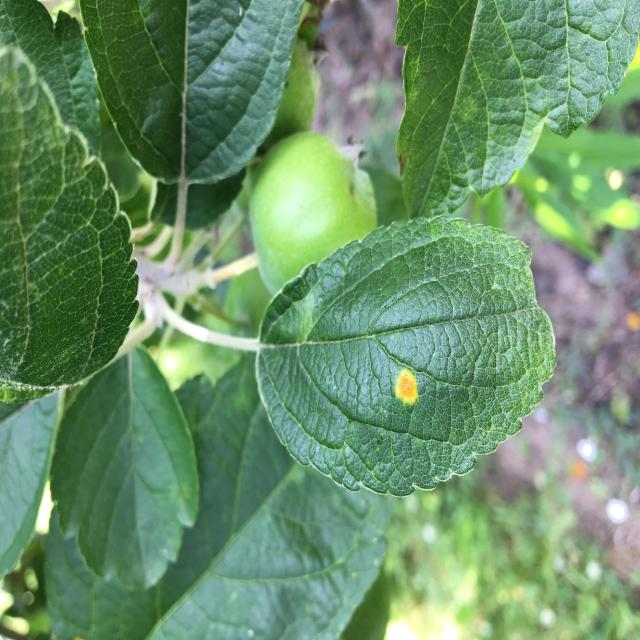Rust: (380, 352, 430, 418)
